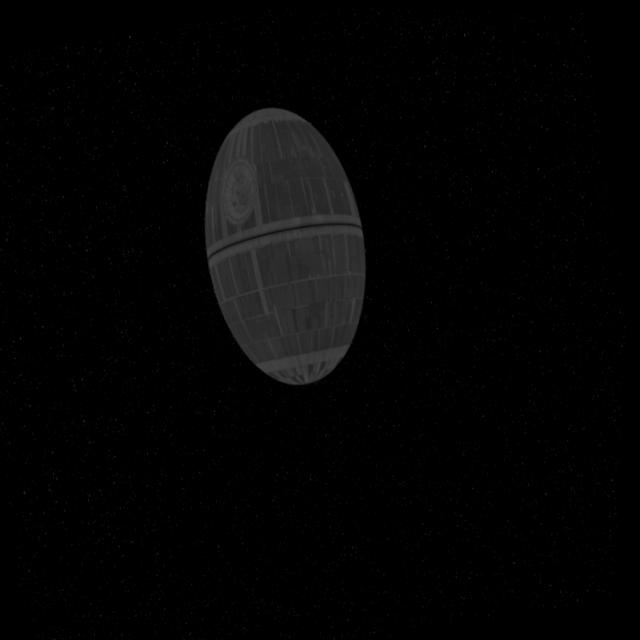death-stars: (207, 106, 370, 386)
